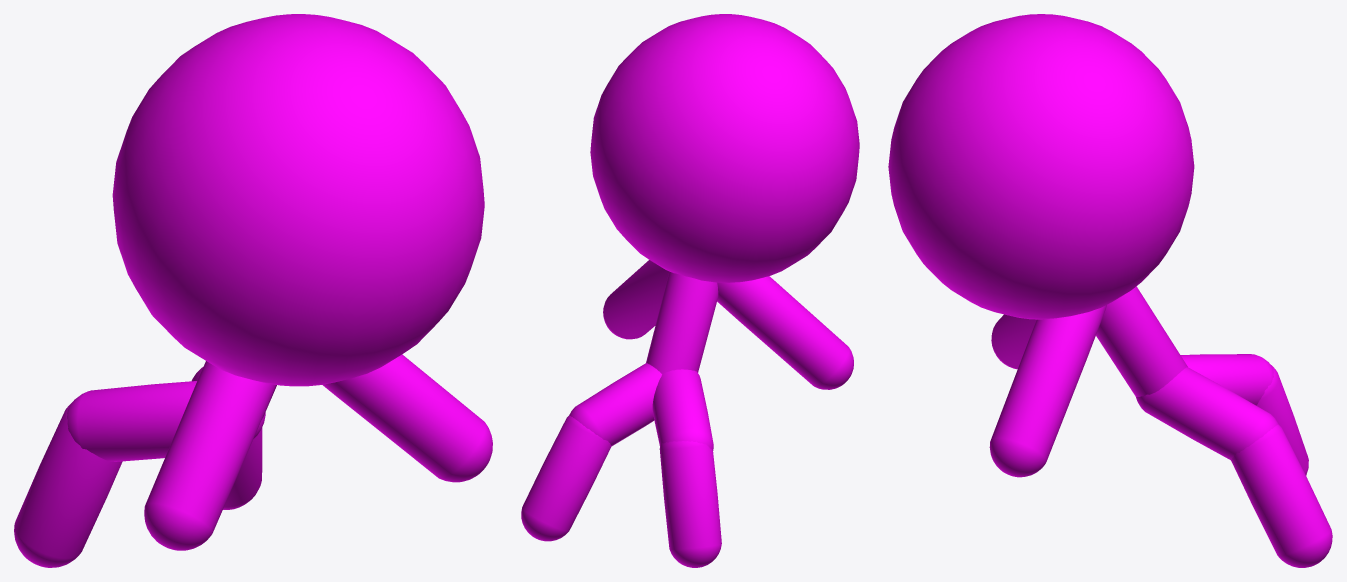
File: StickMan_Sit.obj
3 views of the same model, side by side, from view 1: azimuth 30°, elevation 25°; view 2: azimuth 150°, elevation 25°; view 3: azimuth 270°, elevation 25° (orthographic). The views are drawn at different scales.
Parts seen in each view (by area): view 1: 球.045, 球.002, 球.046, 球.051, 球.001, 球.052; view 2: 球.045, 球.002, 球.051, 球.052, 球.047, 球.050, 球.001, 球.046; view 3: 球.045, 球.046, 球.052, 球.050, 球.047, 球.001, 球.051, 球.002.
Boxes of the visible parts, box(x1,y1,x2,y2) form: 球.045: box(112, 14, 484, 386); 球.002: box(144, 361, 276, 550); 球.046: box(322, 354, 492, 482); 球.051: box(14, 403, 122, 567); 球.001: box(67, 381, 196, 461); 球.052: box(223, 428, 262, 509); 球.045: box(590, 14, 859, 282); 球.002: box(717, 276, 853, 389); 球.051: box(659, 441, 721, 567); 球.052: box(521, 415, 611, 541); 球.047: box(646, 271, 718, 374); 球.050: box(569, 363, 661, 445); 球.001: box(652, 369, 713, 450); 球.046: box(603, 260, 669, 339); 球.045: box(888, 14, 1194, 319); 球.046: box(989, 305, 1106, 477); 球.052: box(1231, 424, 1332, 567); 球.050: box(1136, 367, 1278, 460); 球.047: box(1096, 286, 1187, 396); 球.001: box(1180, 354, 1273, 405); 球.051: box(1256, 365, 1308, 475); 球.002: box(991, 314, 1036, 369).
Bounding box in the file's own units: 10.46 × 18.16 × 14.51.
